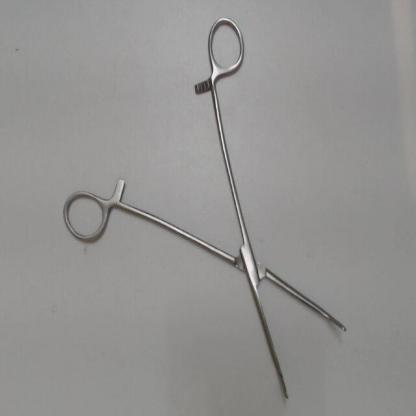Lahey Forceps: (58, 13, 357, 401)
